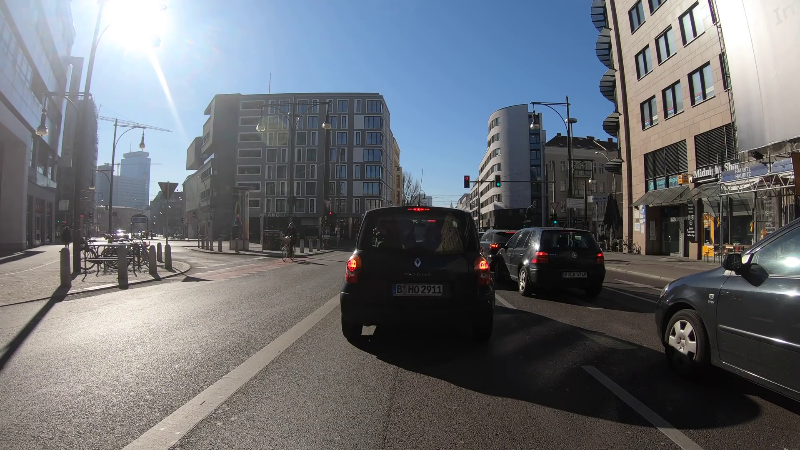Plate: (390, 281, 448, 298), (560, 269, 589, 279)
